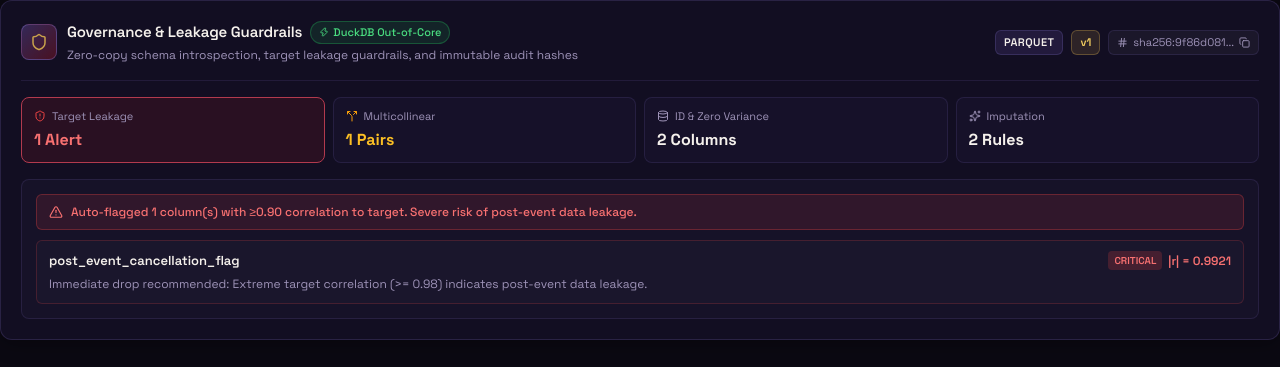
Dataset Governance & Data Quality Guardrails › switches to hygiene tab and displays constant and identifier columns
Note: Click ID & Zero Variance tab
Step 1. Click the text "ID & Zero Variance" → [722, 116], box [675,108,769,124]
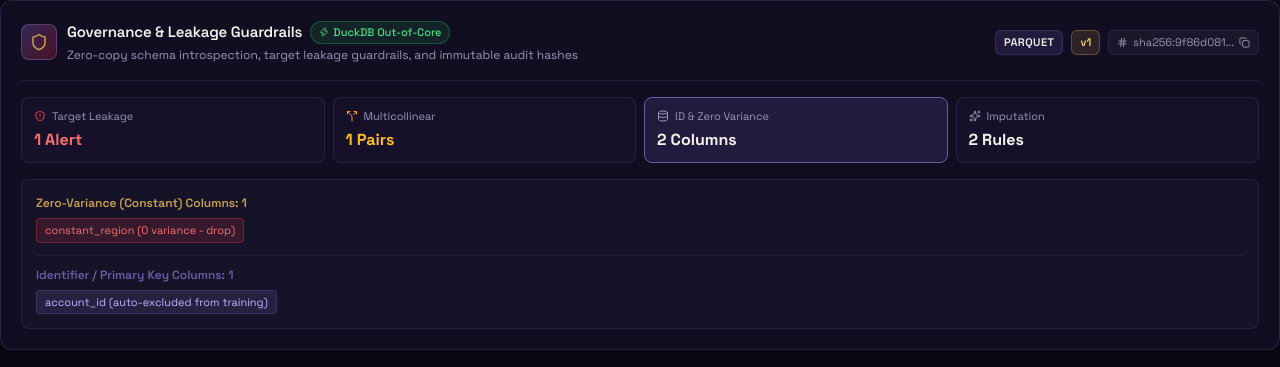
Check: the text "constant_region (0 variance - drop)" is shown, box [36,218,244,242]
Check: the text "account_id (auto-excluded from training)" is shown, box [36,290,277,314]
